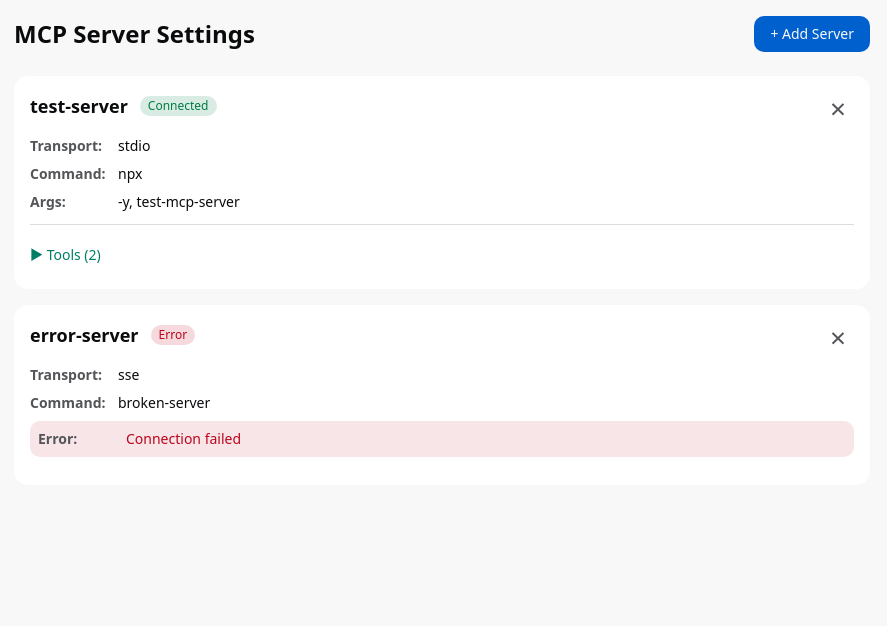
it: MCPSettings › tool listing › should collapse tools when toggle is clicked again
Check: the heading "test-server" is shown, box [30,92,128,120]
Click the button "▶ Tools (2)": coordinates (65, 255) [30,237,101,273]
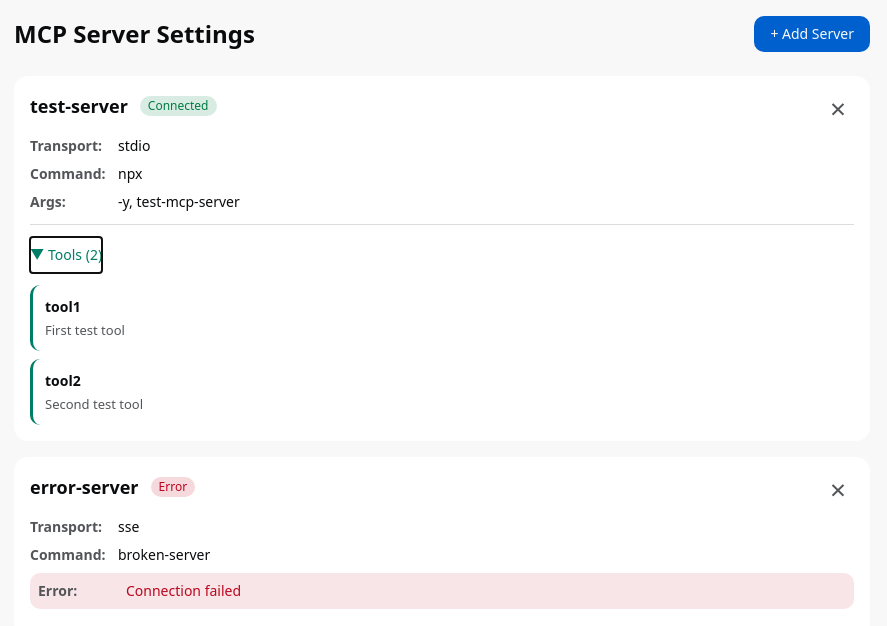
Check: the text "tool1" is shown, box [45,297,81,316]
Click the button "▼ Tools (2)": coordinates (66, 255) [30,237,102,273]
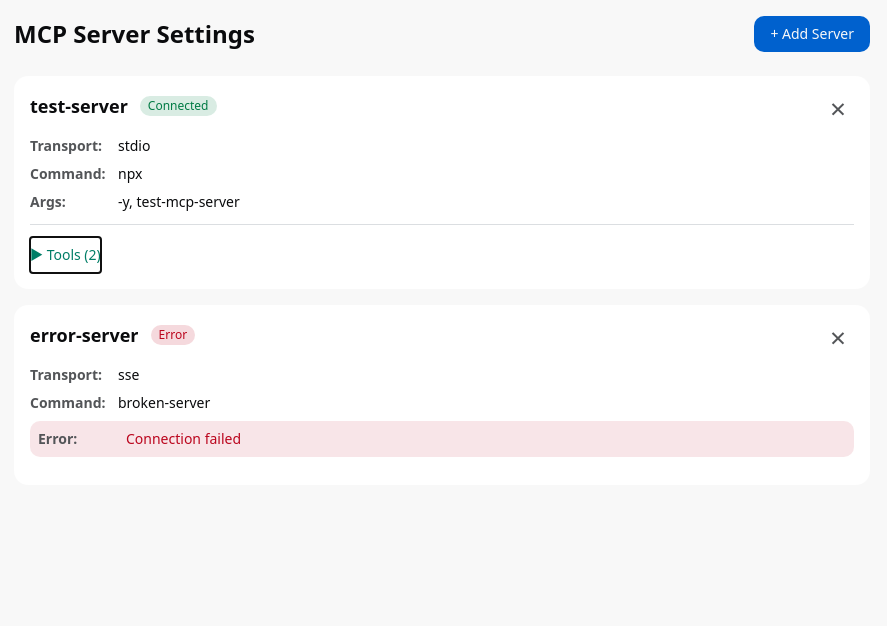
Check: the text "tool1" is gone
